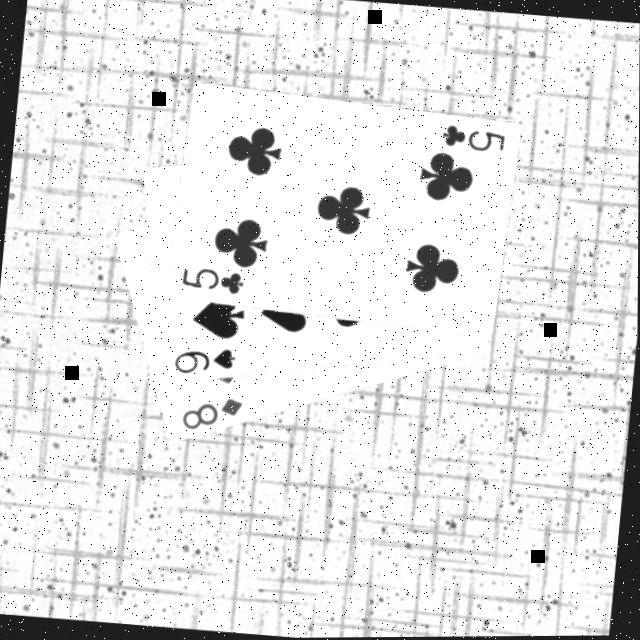5C: (439, 119, 510, 155), (179, 262, 249, 296)
8D: (179, 388, 248, 436)
9S: (171, 340, 242, 380)
